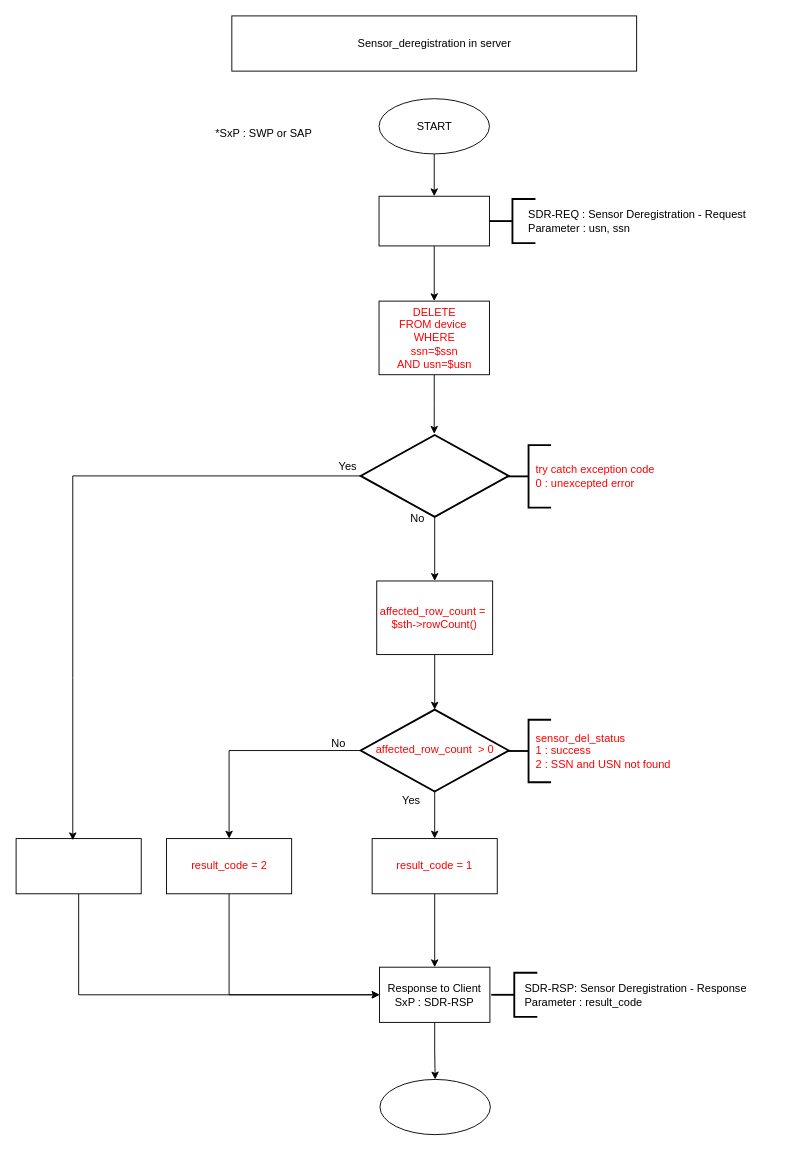
The diagram is 809 pixels wide and 1151 high, and some of its shapes have lost their labels. The shapes that lost their labels are listed below. From the top down, each one's centre as x and y in pixels, then its label:
At (x=433, y=220): "Receive request from Client *SxP : SDR-REQ".
At (x=434, y=475): "Any Exception ?".
At (x=78, y=866): "result_code = 0".
At (x=434, y=1107): "END".
